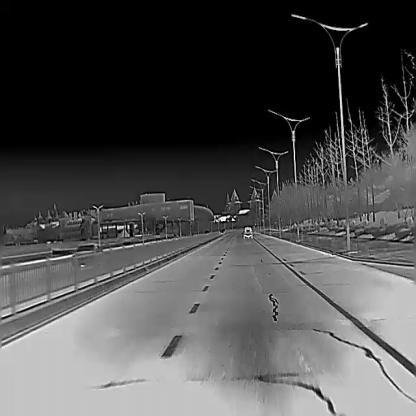car: (72, 242, 104, 267), (242, 225, 253, 238)
